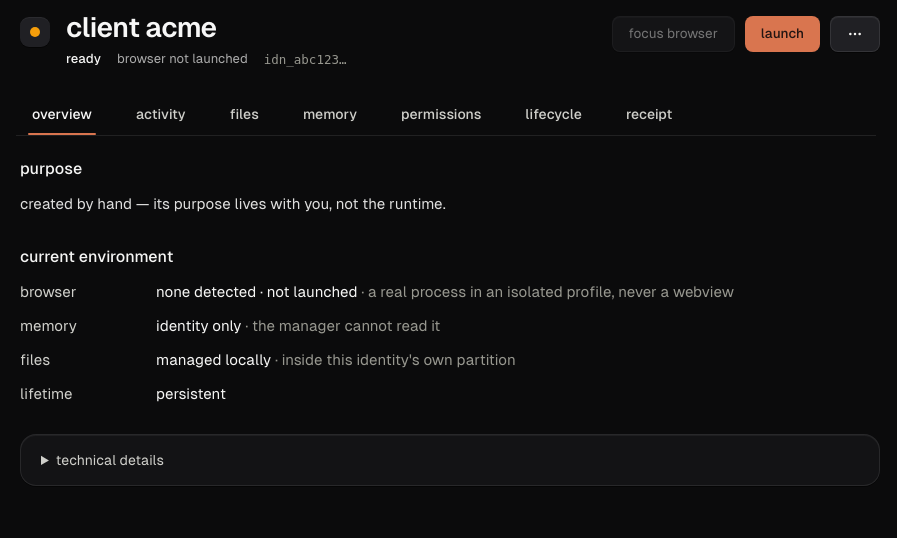
identity workspace › stays honest about what rpc cannot show, tab by tab
Click the tab "files": (244, 114) x1=214 y1=94 x2=275 y2=134
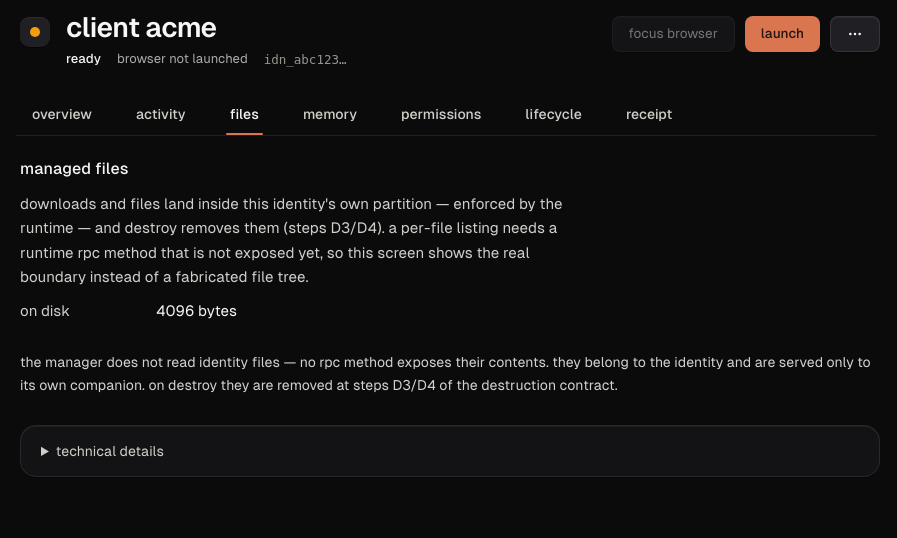
Expected: the text "is not exposed yet, so this screen shows the real boundary" is shown, x1=20 y1=195 x2=562 y2=285
Expected: the text with test id "cannot-read" shows "no rpc method exposes their contents", x1=20 y1=354 x2=871 y2=393
Click the tab "memory": (330, 114) x1=287 y1=94 x2=373 y2=134
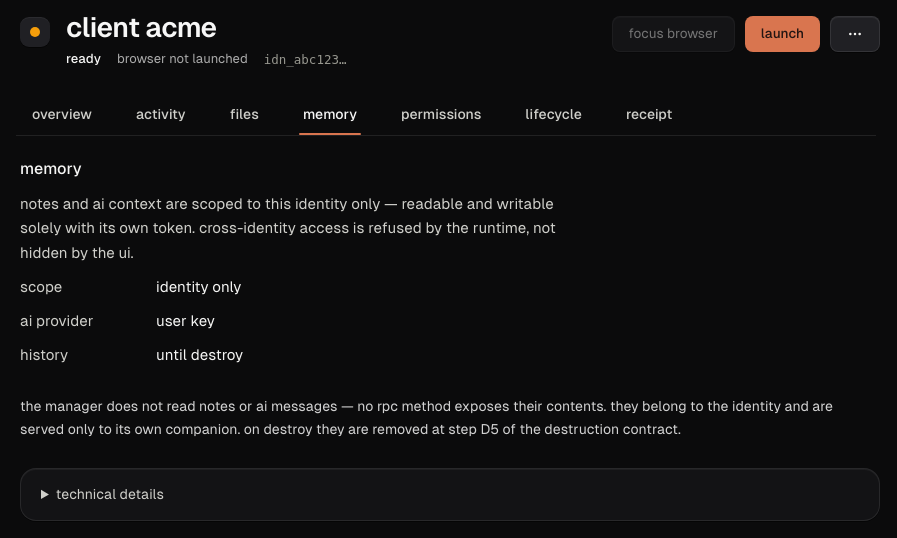
Expected: the text with test id "cannot-read" shows "notes or ai messages", x1=199 y1=398 x2=338 y2=414
Click the tab "receipt": (649, 114) x1=610 y1=94 x2=688 y2=134
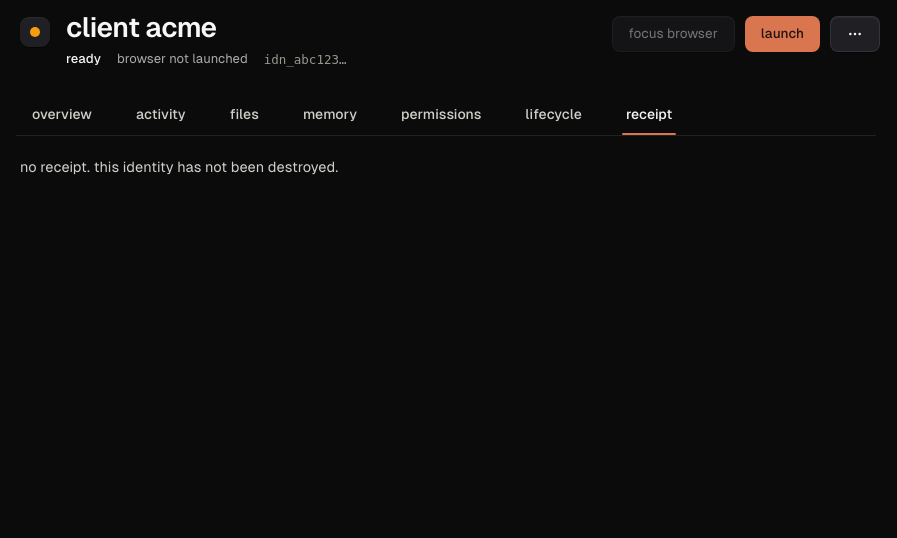
Expected: the text with test id "no-receipt" shows "has not been destroyed", x1=20 y1=159 x2=338 y2=175
